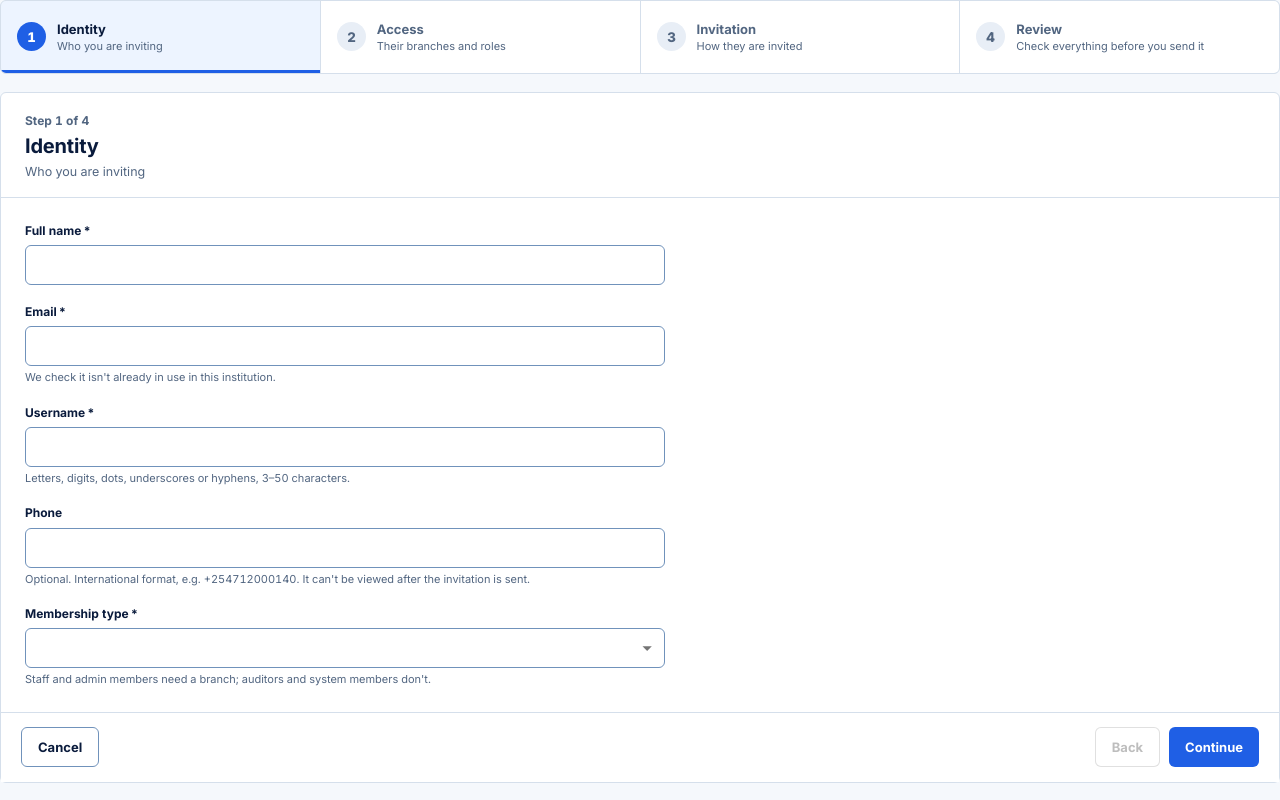
Test: InviteUserWizard: the steps › says a failed check (502) failed, never reading it as a free email (L1)
Type "Neema Wanjiku" into the field labelled "Full name" at (345, 265), box [25,245,665,285]
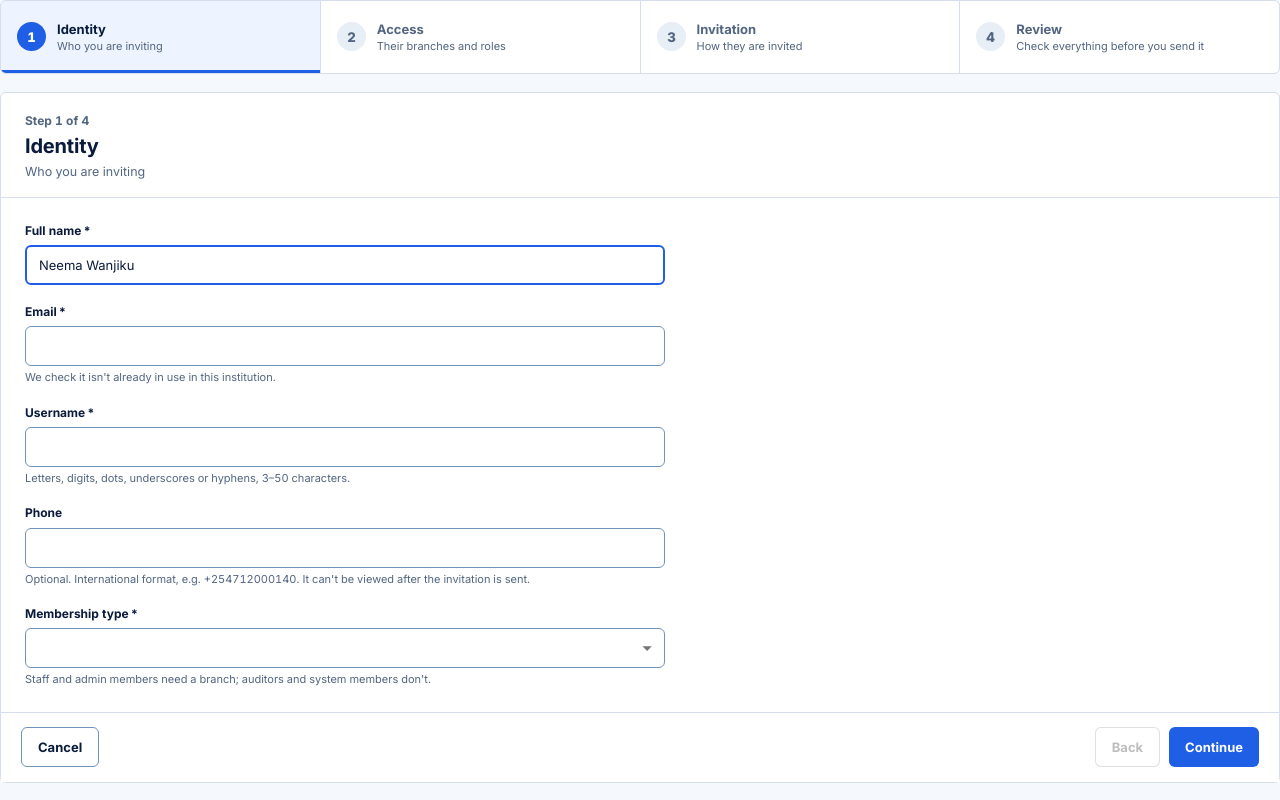
Type "neema.wanjiku@greenfield.example" into the field labelled "Email" at (345, 346), box [25,326,665,366]
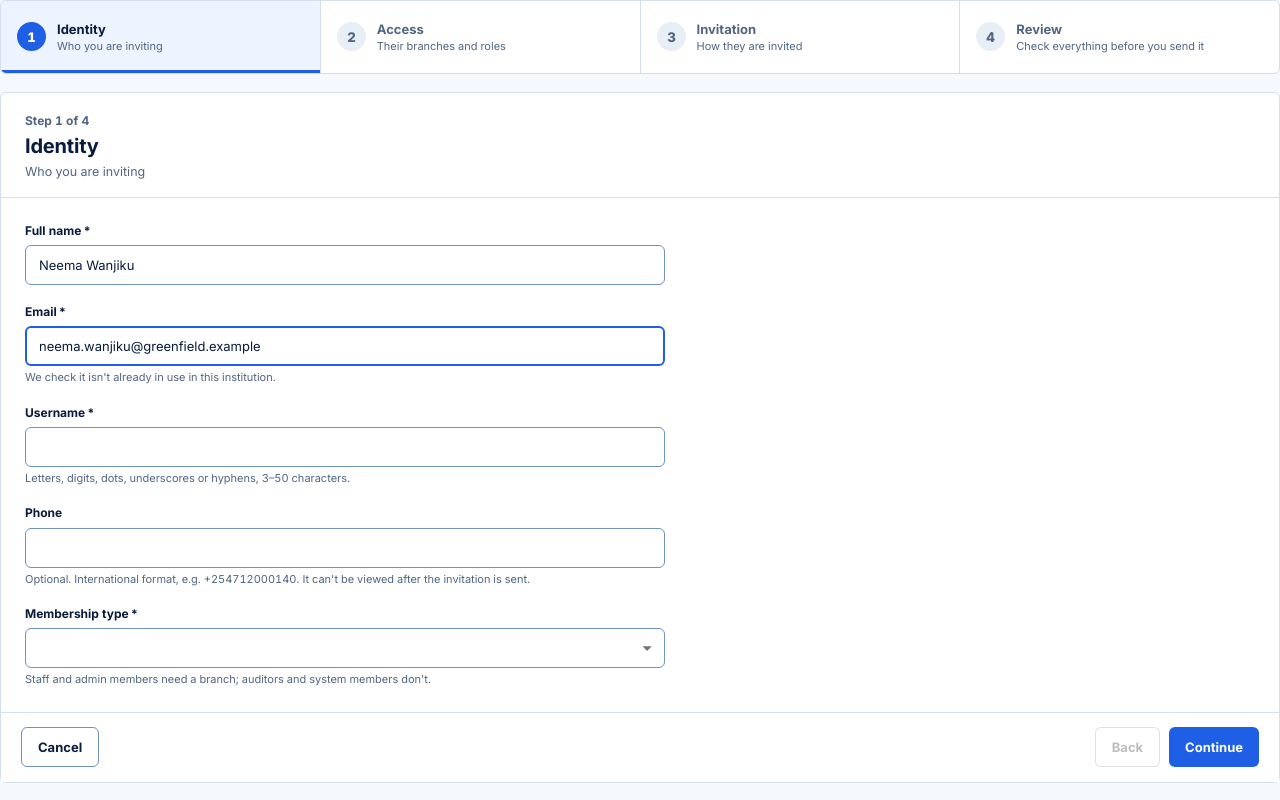
Type "neema.wanjiku" into the field labelled "Username" at (345, 447), box [25,427,665,467]
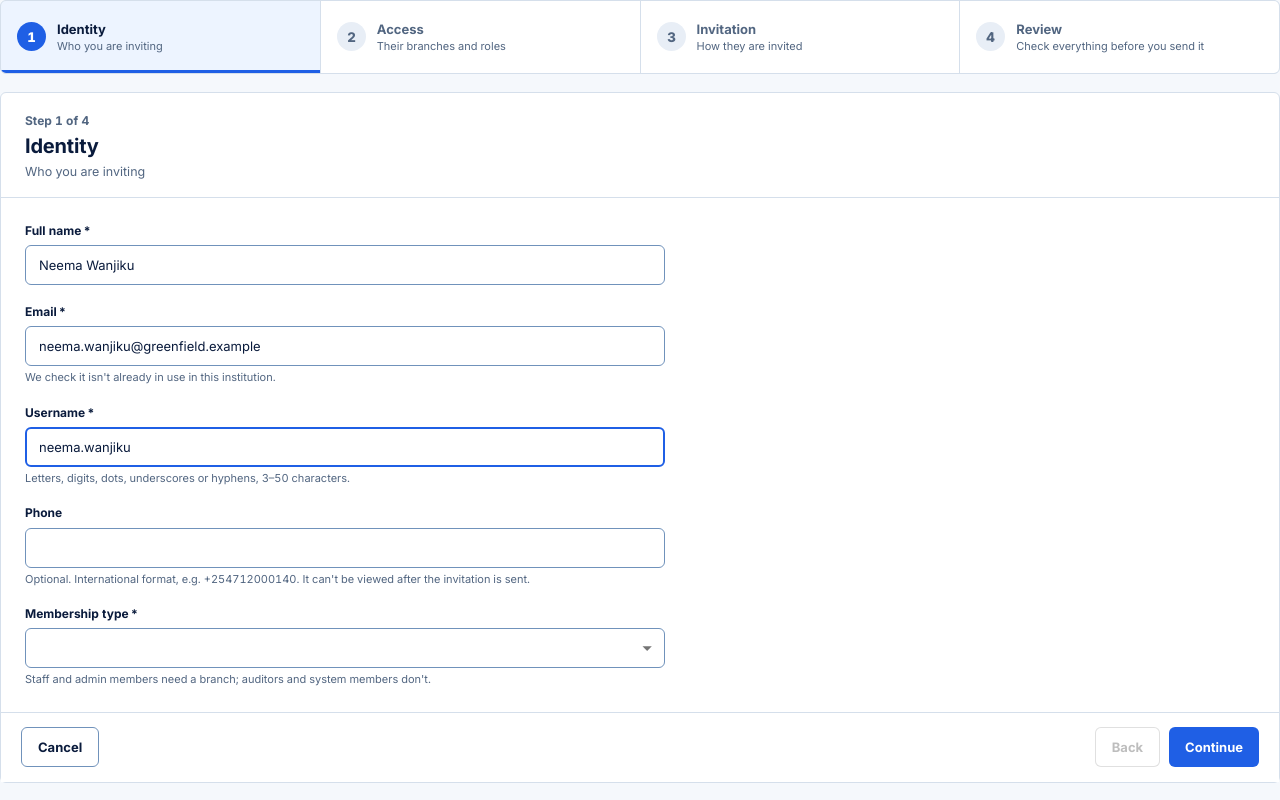
Click the dropdown named "Membership type" at (345, 648), box [25,628,665,668]
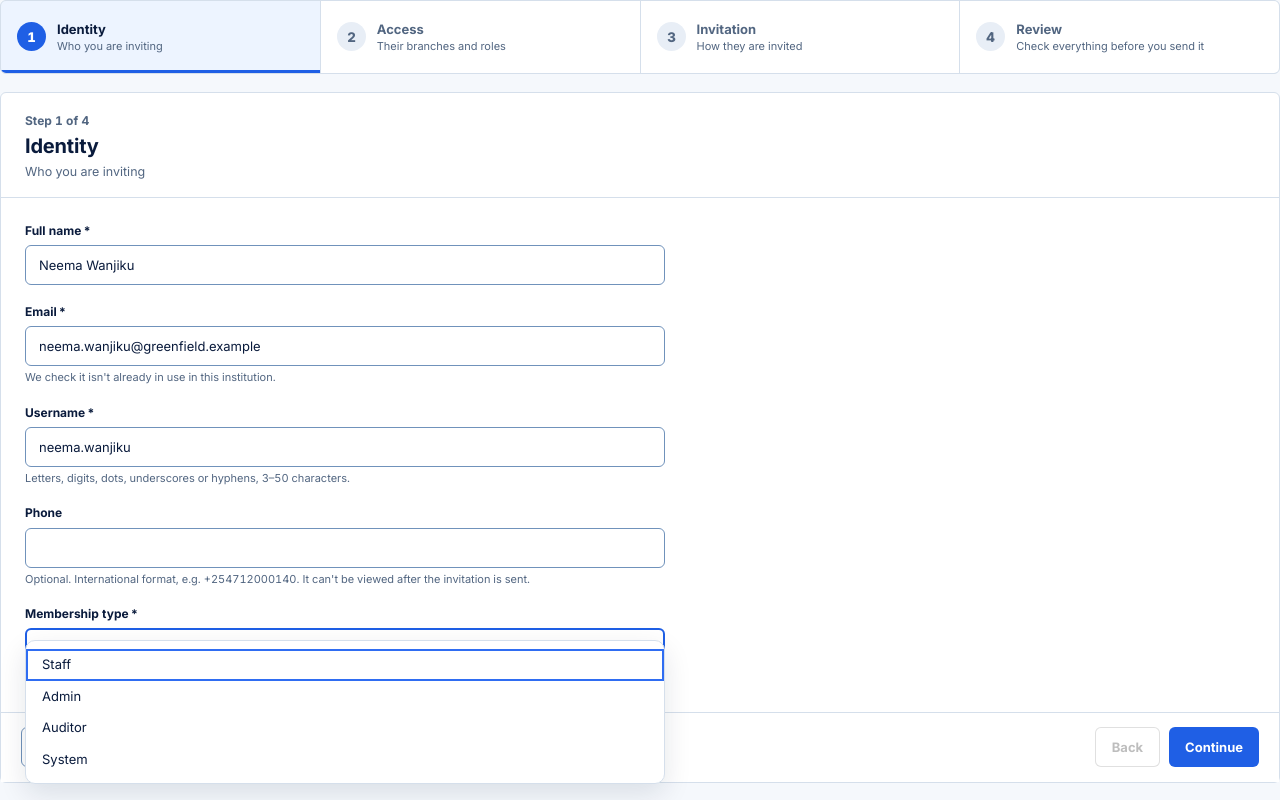
Click the option "Staff" at (57, 664), box [26,649,664,680]
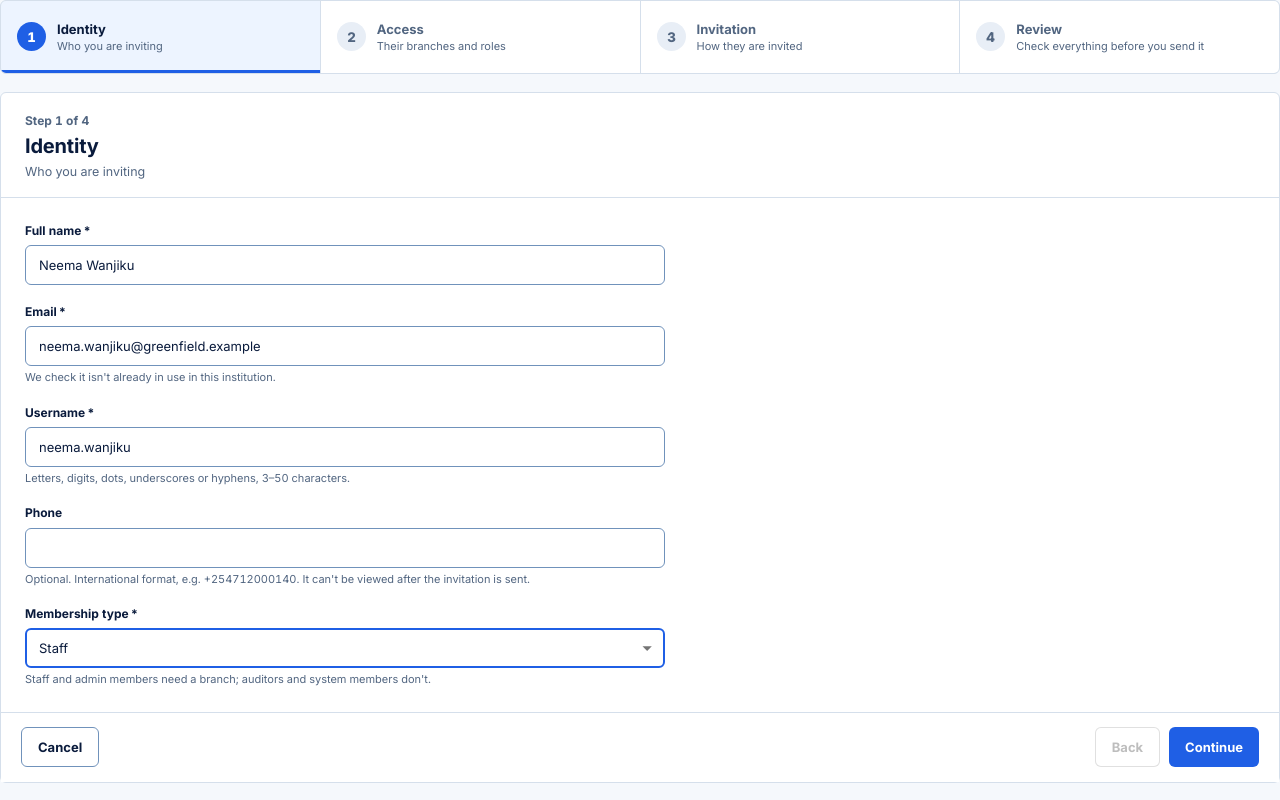
Click the button "Continue" at (1214, 747), box [1169,727,1259,767]
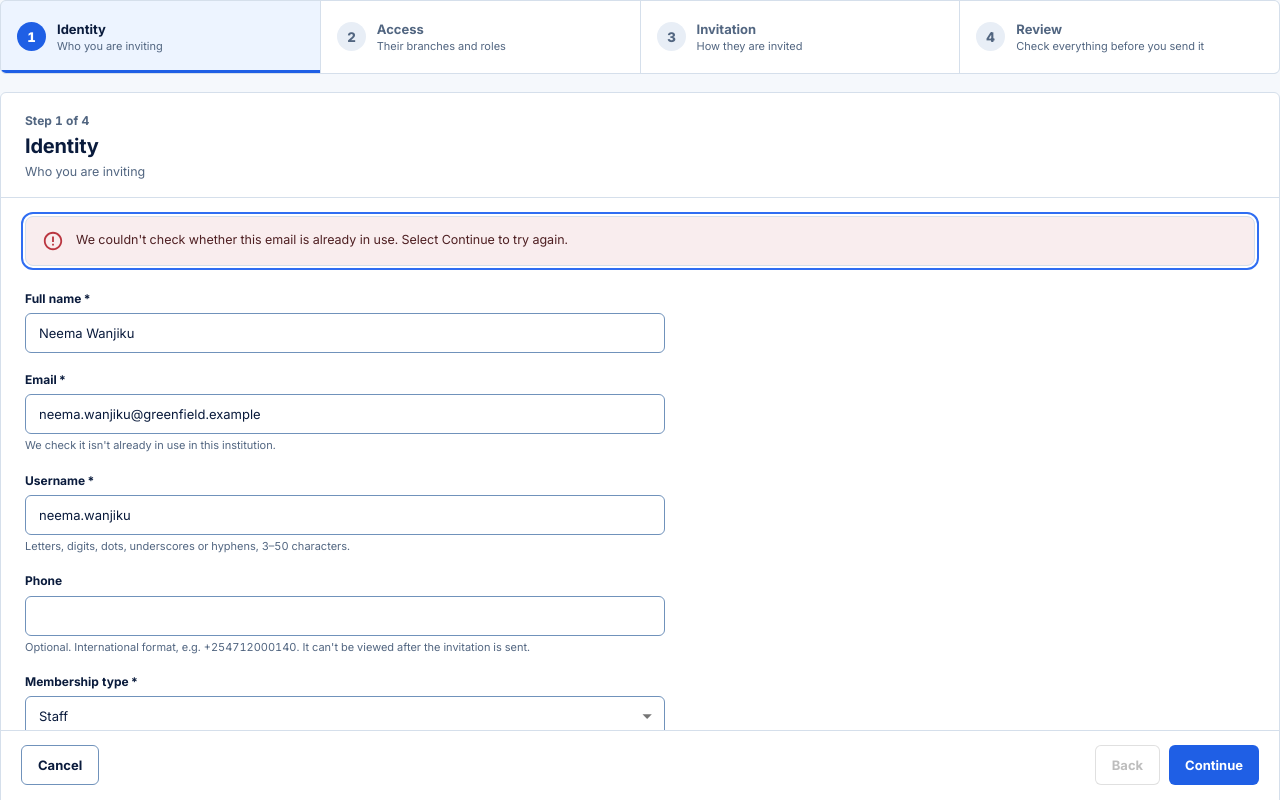
Expected: the heading "Identity" is shown, [25,134,98,158]
Result: the text "We couldn't check whether this email is already in use. Select Continue to try again." is shown at [76,232,568,247]
